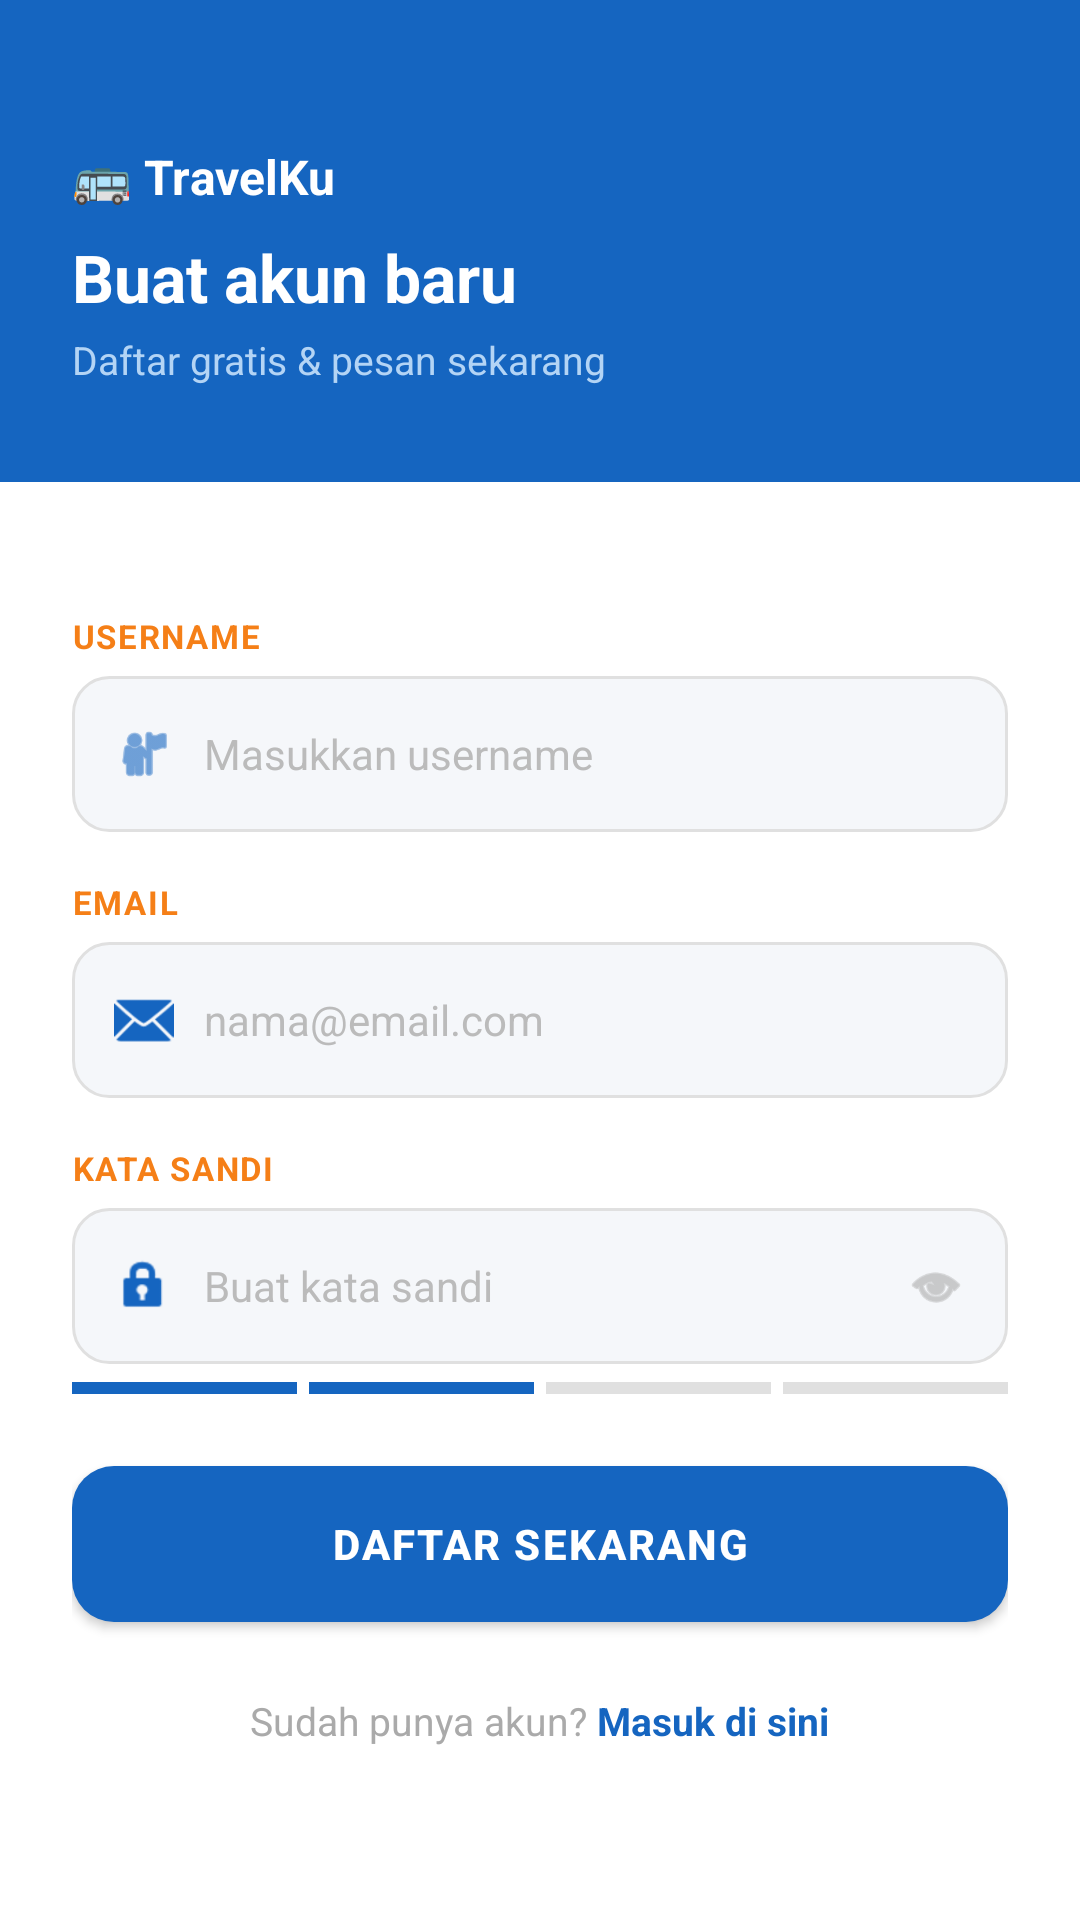

Locate icon controls on the screen. Image size 1080*1920, boxes as (x1, y1, x2, y2).
lock idle: (123, 1261, 162, 1307)
myplaces: (122, 732, 167, 776)
view: (912, 1273, 960, 1302)
